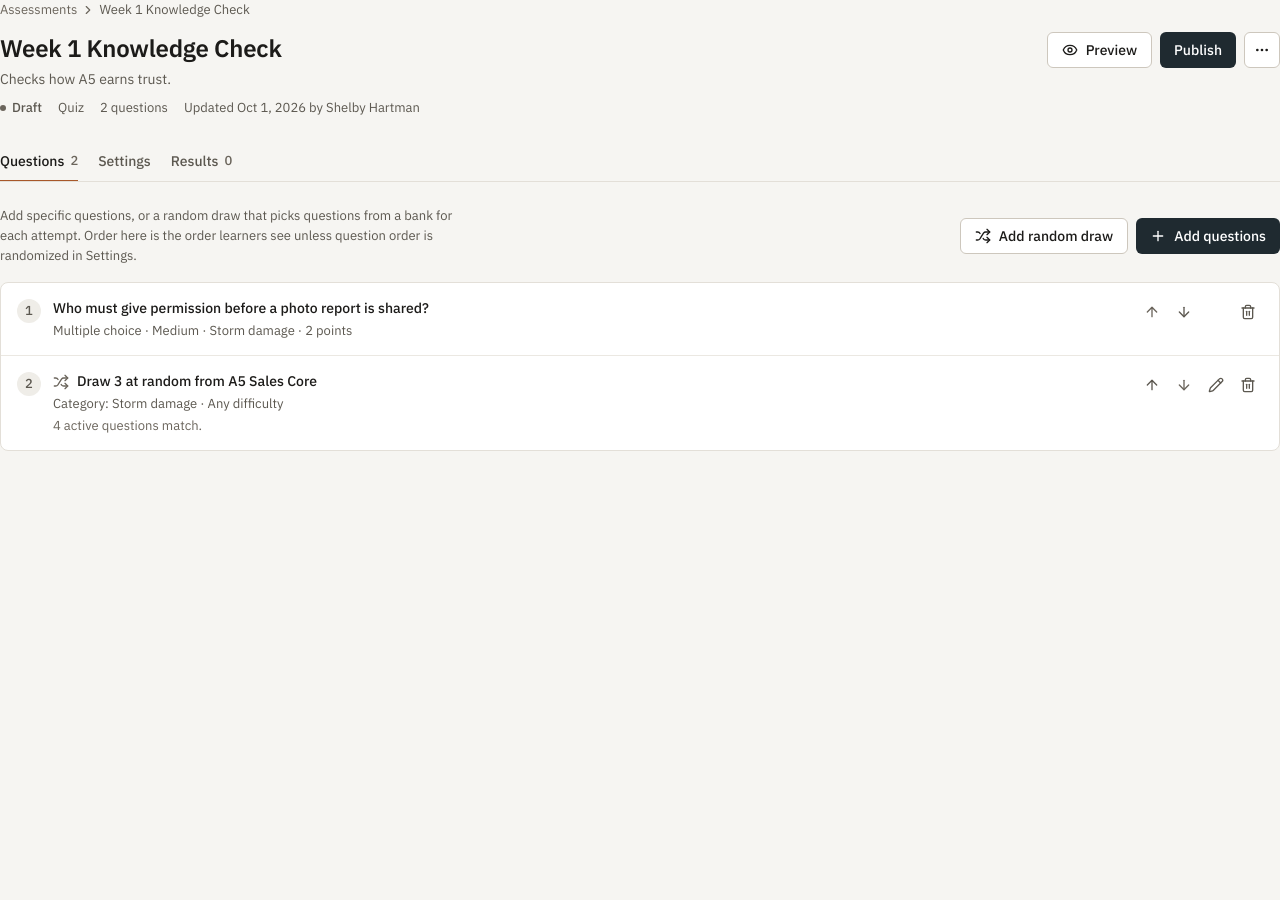
Test: AssessmentBuilderPage › publishing › shows the server reason when publishing is refused
Click the button "Publish" at (1198,50), box [1160, 32, 1236, 68]
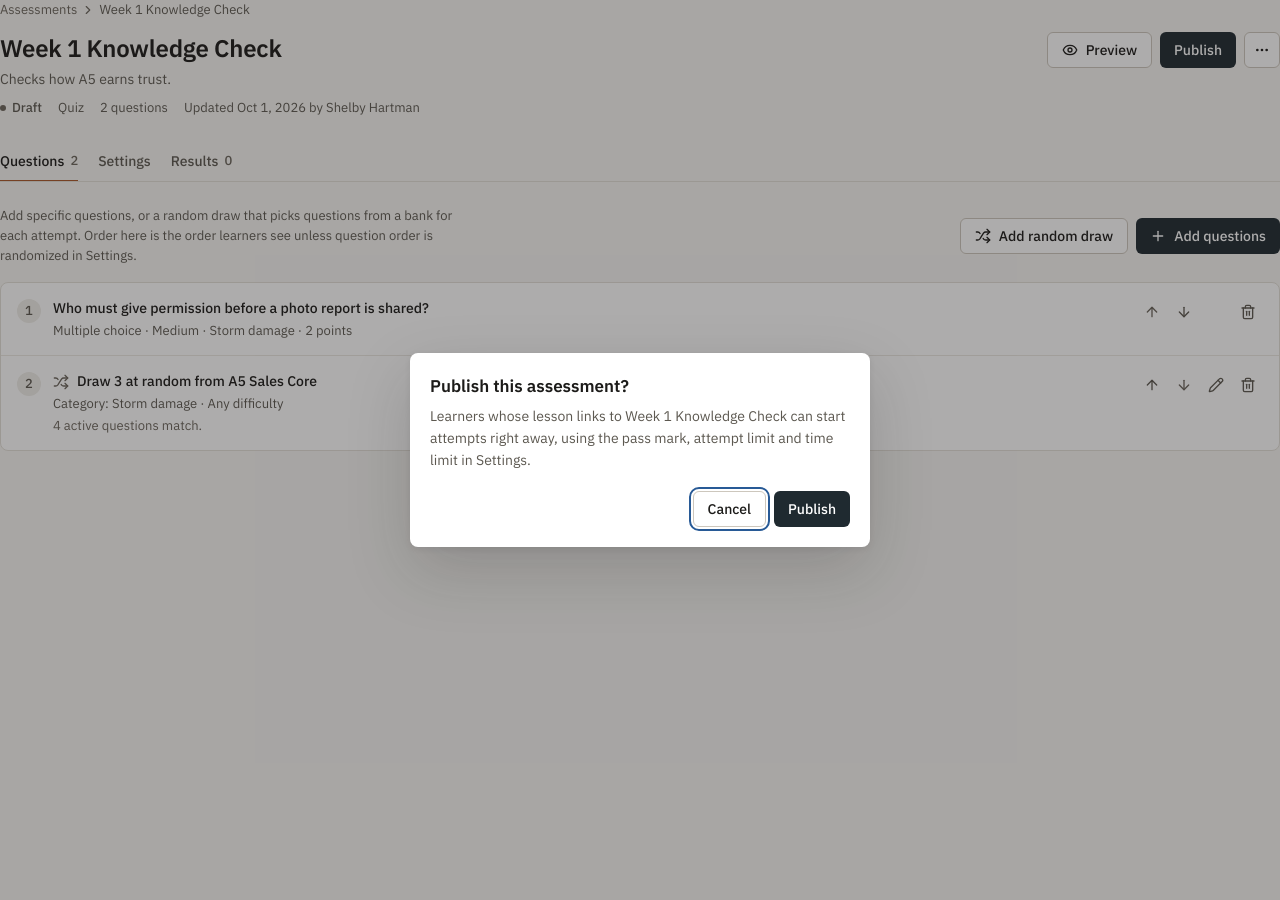
Click the button "Publish" at (812,509), box [774, 491, 850, 527]
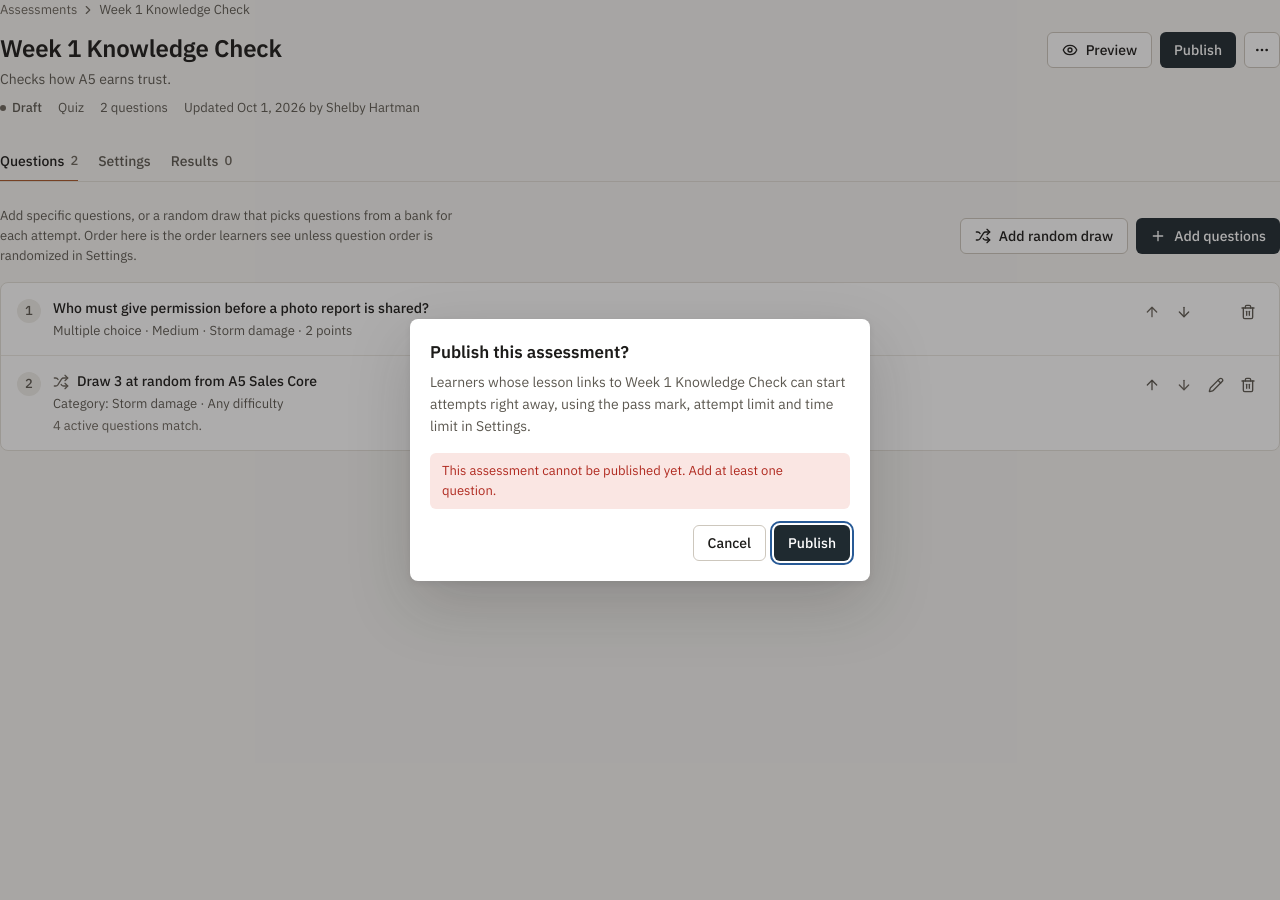
Expected: the text "This assessment cannot be published yet. Add at least one question." is shown, [430, 453, 850, 509]
